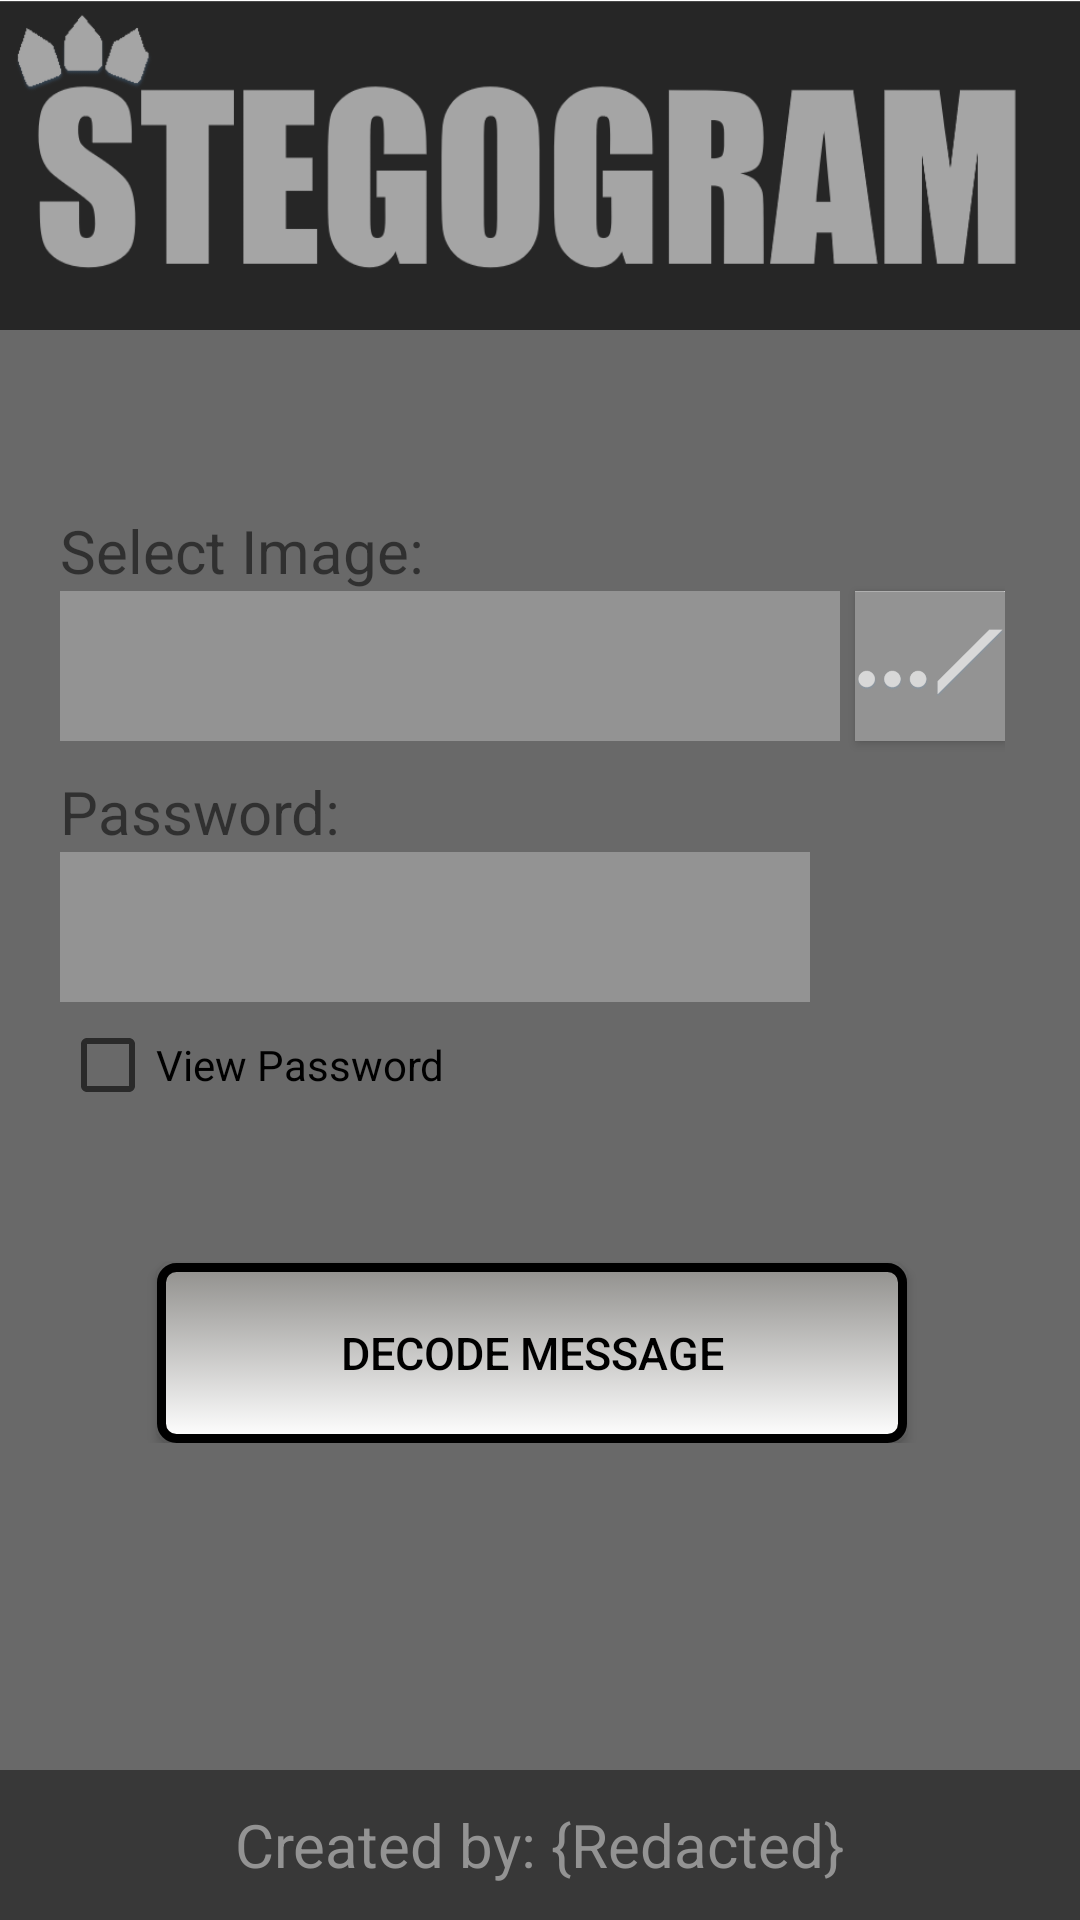

Screen size 1080×1920. Icon name, then its box in pixels as (x1, y1, x2, y2):
dir: (855, 591, 1005, 741)
